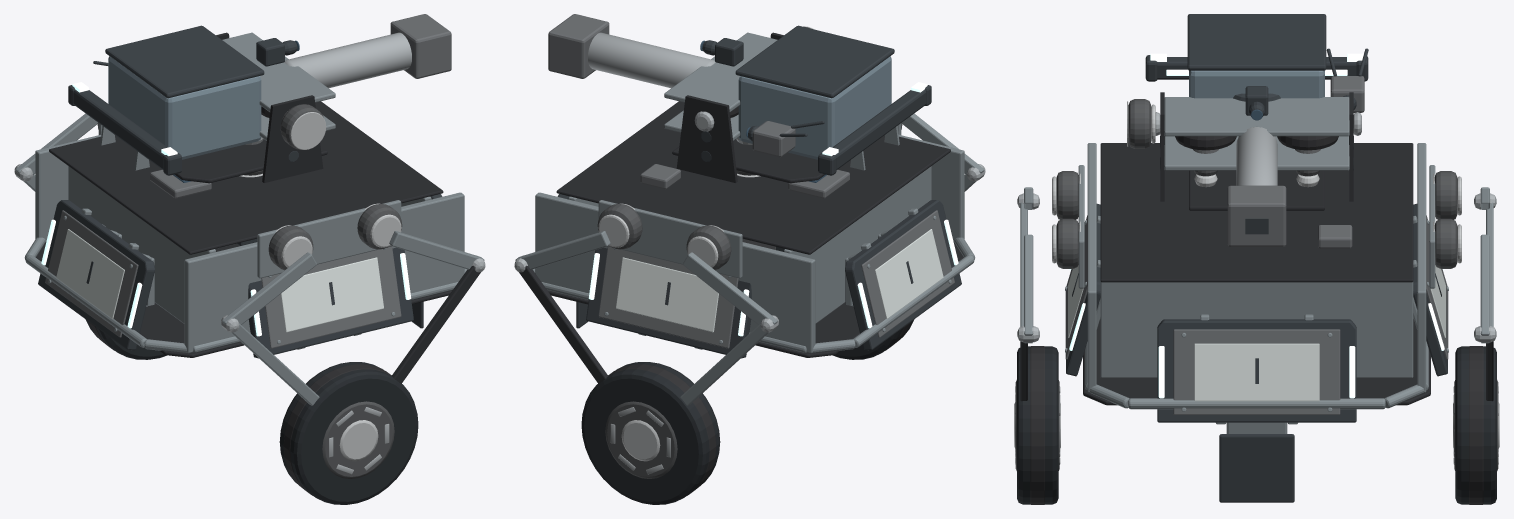
File: robot-103-spec2026v3.glb
3 renders of one model, left to right at view 1: azimuth 30°, elevation 25°; view 2: azimuth 150°, elevation 25°; view 3: azimuth 270°, elevation 25°, orthographic. The views are drawn at different scales.
Parts seen in each view (by area): view 1: Chassis_RobotMatteAluminum, Chassis_CarbonPlate, Tyre, MagazineBox, MagazineLid, Turret_CarbonPlate, ArmorSticker.003, GunPitch_MachinedAlloy, ArmorHitFace.003, ArmorSticker.002, ArmorModuleBody.002, GunPitch_RobotMatteAluminum (+20 smaller); view 2: Chassis_RobotMatteAluminum, Chassis_CarbonPlate, Tyre.001, MagazineBox, MagazineLid, Turret_CarbonPlate, ArmorSticker.001, GunPitch_MachinedAlloy, ArmorHitFace.001, ArmorModuleBody.002, ArmorSticker.002, GunPitch_RobotMatteAluminum (+19 smaller); view 3: Chassis_CarbonPlate, Chassis_RobotMatteAluminum, GunPitch_RobotMatteAluminum, MagazineLid, ArmorSticker, ArmorHitFace, ArmorModuleBody, Chassis_RobotMatteGraphite, Chassis_MotorHousing, Tyre, Tyre.001, Turret_CarbonPlate (+24 smaller).
Part boxes in pixels (box(x1,y1,x2,y2)): Chassis_RobotMatteAluminum: box(24, 123, 467, 353); Chassis_CarbonPlate: box(36, 101, 452, 357); Tyre: box(279, 362, 418, 504); MagazineBox: box(108, 56, 261, 159); MagazineLid: box(105, 25, 264, 98); Turret_CarbonPlate: box(174, 32, 327, 183); ArmorSticker.003: box(281, 257, 383, 332); GunPitch_MachinedAlloy: box(284, 32, 411, 88); ArmorHitFace.003: box(261, 246, 401, 348); ArmorSticker.002: box(56, 229, 124, 318); ArmorModuleBody.002: box(38, 200, 154, 350); GunPitch_RobotMatteAluminum: box(222, 32, 335, 140); Chassis_RobotMatteAluminum: box(532, 123, 975, 353); Chassis_CarbonPlate: box(547, 101, 963, 357); Tyre.001: box(581, 362, 720, 504); MagazineBox: box(738, 56, 891, 159); MagazineLid: box(735, 25, 894, 98); Turret_CarbonPlate: box(672, 32, 825, 183); ArmorSticker.001: box(616, 257, 718, 332); GunPitch_MachinedAlloy: box(588, 32, 715, 88); ArmorHitFace.001: box(598, 246, 738, 348); ArmorModuleBody.002: box(845, 200, 961, 350); ArmorSticker.002: box(875, 229, 943, 318); GunPitch_RobotMatteAluminum: box(664, 32, 777, 140); Chassis_CarbonPlate: box(1083, 143, 1430, 405); Chassis_RobotMatteAluminum: box(1078, 143, 1435, 433); GunPitch_RobotMatteAluminum: box(1164, 97, 1349, 170); MagazineLid: box(1187, 14, 1326, 70); ArmorSticker: box(1194, 343, 1319, 401); ArmorHitFace: box(1173, 329, 1340, 414); ArmorModuleBody: box(1157, 319, 1356, 422); Chassis_RobotMatteGraphite: box(1219, 434, 1294, 502); Chassis_MotorHousing: box(1056, 171, 1457, 268); Tyre: box(1017, 346, 1058, 504); Tyre.001: box(1455, 346, 1496, 504); Turret_CarbonPlate: box(1160, 92, 1353, 210).
Bounding box in the file's own units: 0.6055 × 0.6175 × 0.6416.
